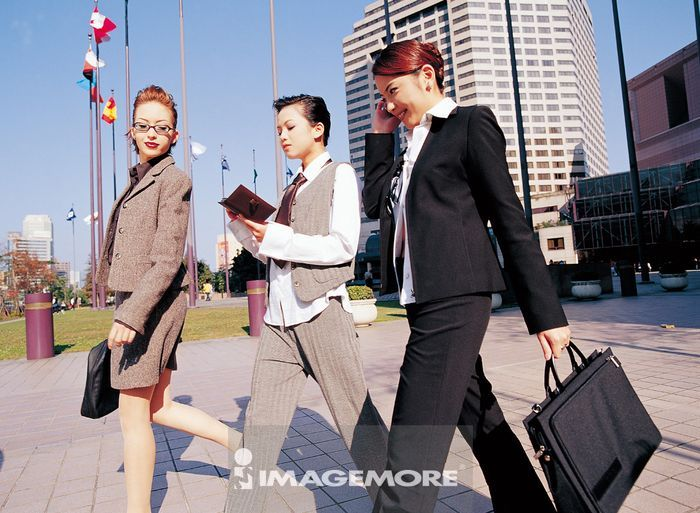talk: (369, 78, 418, 134)
